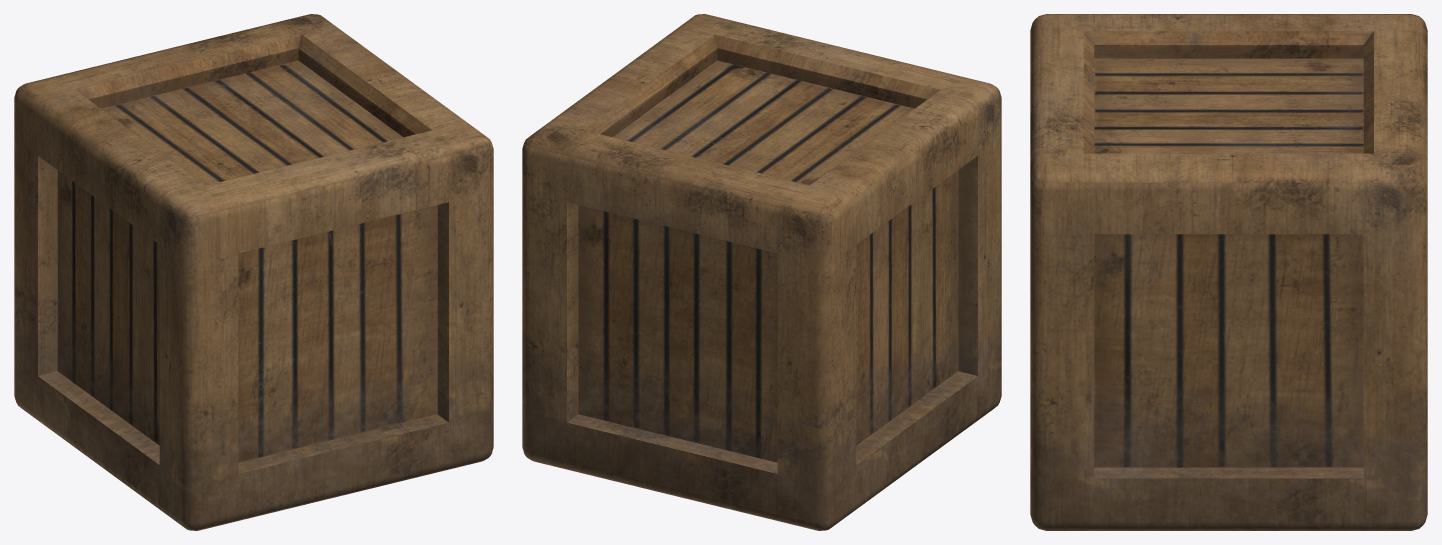
The model's file is crate_wooden.fbx.
3 views of the same model, side by side, from view 1: azimuth 30°, elevation 25°; view 2: azimuth 150°, elevation 25°; view 3: azimuth 270°, elevation 25° (orthographic). The views are drawn at different scales.
Visible parts, largest first — view 1: crate; view 2: crate; view 3: crate.
Part boxes in pixels (left/top/right/bottom): crate: left=14, top=14, right=493, bottom=530; crate: left=522, top=14, right=1001, bottom=530; crate: left=1030, top=14, right=1427, bottom=530.
Size of the model in its own units: 2000 by 2000 by 2000.
